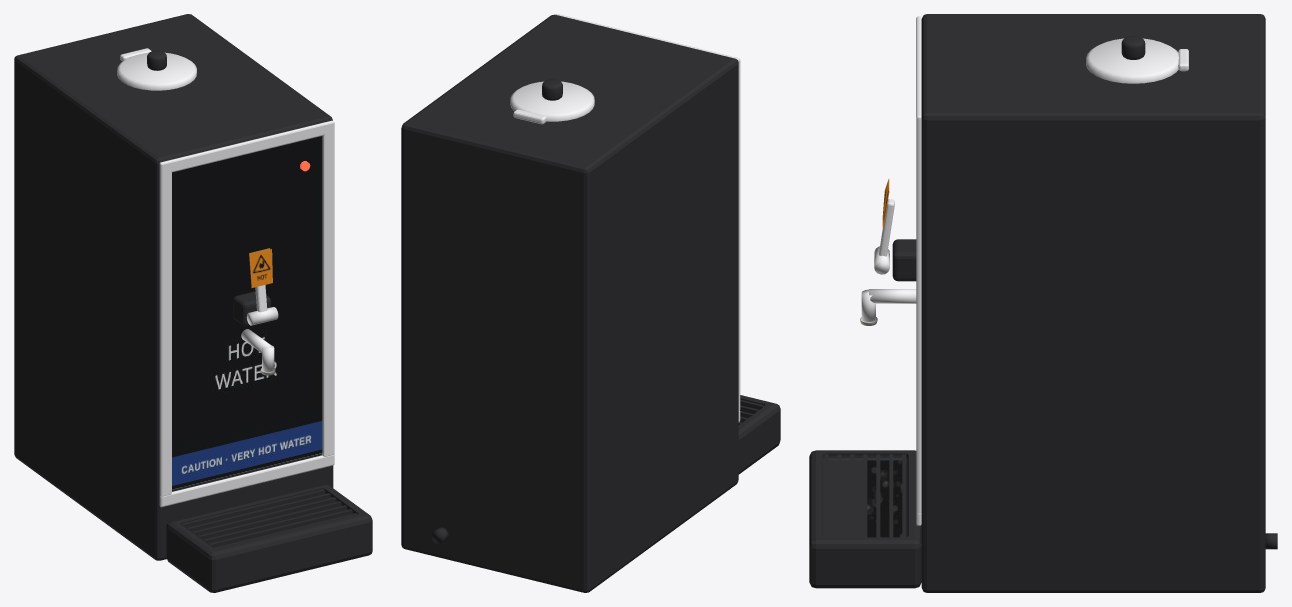
File: hotel-hot-water-box.glb
3 views of the same model, side by side, from view 1: azimuth 30°, elevation 25°; view 2: azimuth 150°, elevation 25°; view 3: azimuth 270°, elevation 25° (orthographic). The views are drawn at different scales.
Visible parts, largest first — view 1: powder_black, hw_print, chrome, lever; view 2: powder_black, chrome; view 3: powder_black, chrome, hw_print, lever.
Boxes of the visible parts, <box> form: powder_black: <box>14,14,372,592</box>; hw_print: <box>172,136,322,489</box>; chrome: <box>117,48,334,507</box>; lever: <box>246,248,278,325</box>; powder_black: <box>401,14,780,592</box>; chrome: <box>510,14,740,422</box>; powder_black: <box>809,14,1277,592</box>; chrome: <box>861,16,1188,525</box>; hw_print: <box>860,317,902,537</box>; lever: <box>874,179,894,274</box>.
Size of the model in its own units: 0.185 by 0.42 by 0.354.
Materials: 4 (1 with a texture image).
